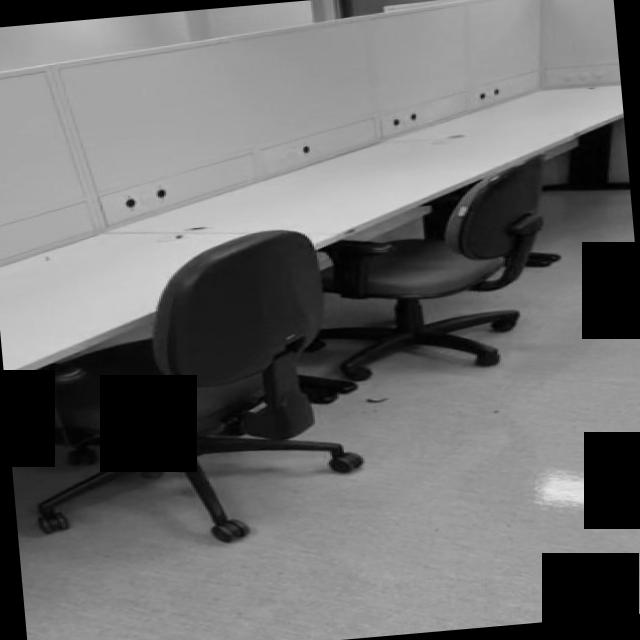cadeira-azul: (0, 222, 368, 558)
